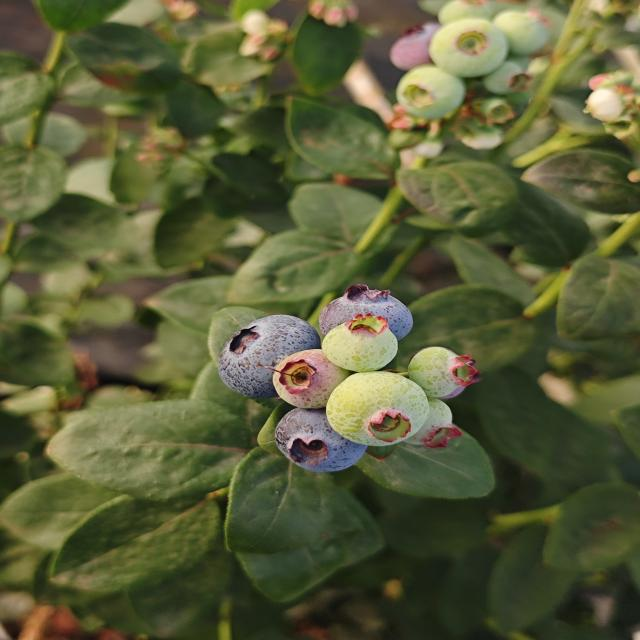ripe: (210, 310, 333, 400), (269, 402, 372, 473), (314, 284, 420, 345)
